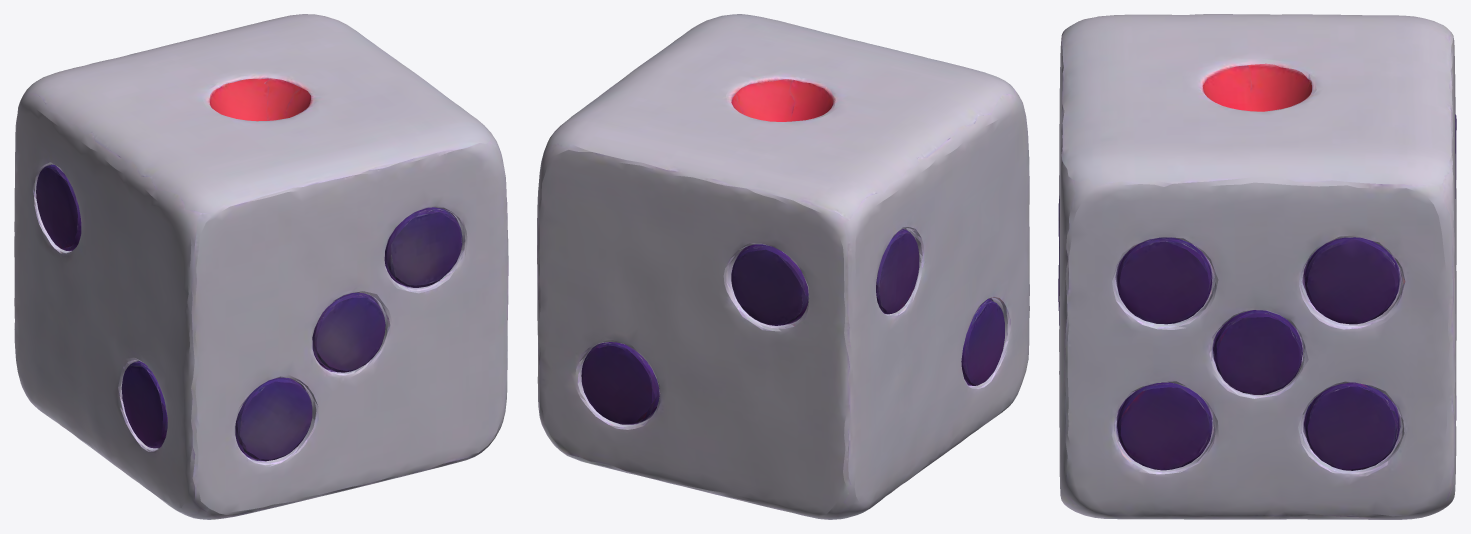
The model's file is dice.glb.
3 renders of one model, left to right at view 1: azimuth 30°, elevation 25°; view 2: azimuth 150°, elevation 25°; view 3: azimuth 270°, elevation 25°, orthographic. The views are drawn at different scales.
Visible parts, largest first — view 1: Mesh; view 2: Mesh; view 3: Mesh.
Part boxes in pixels (bbox=[...]): Mesh: bbox=[14, 14, 508, 519]; Mesh: bbox=[537, 14, 1029, 519]; Mesh: bbox=[1058, 14, 1456, 519].
Size of the model in its own units: 1 by 0.9921 by 0.9823.
1 material, 1 textured.
